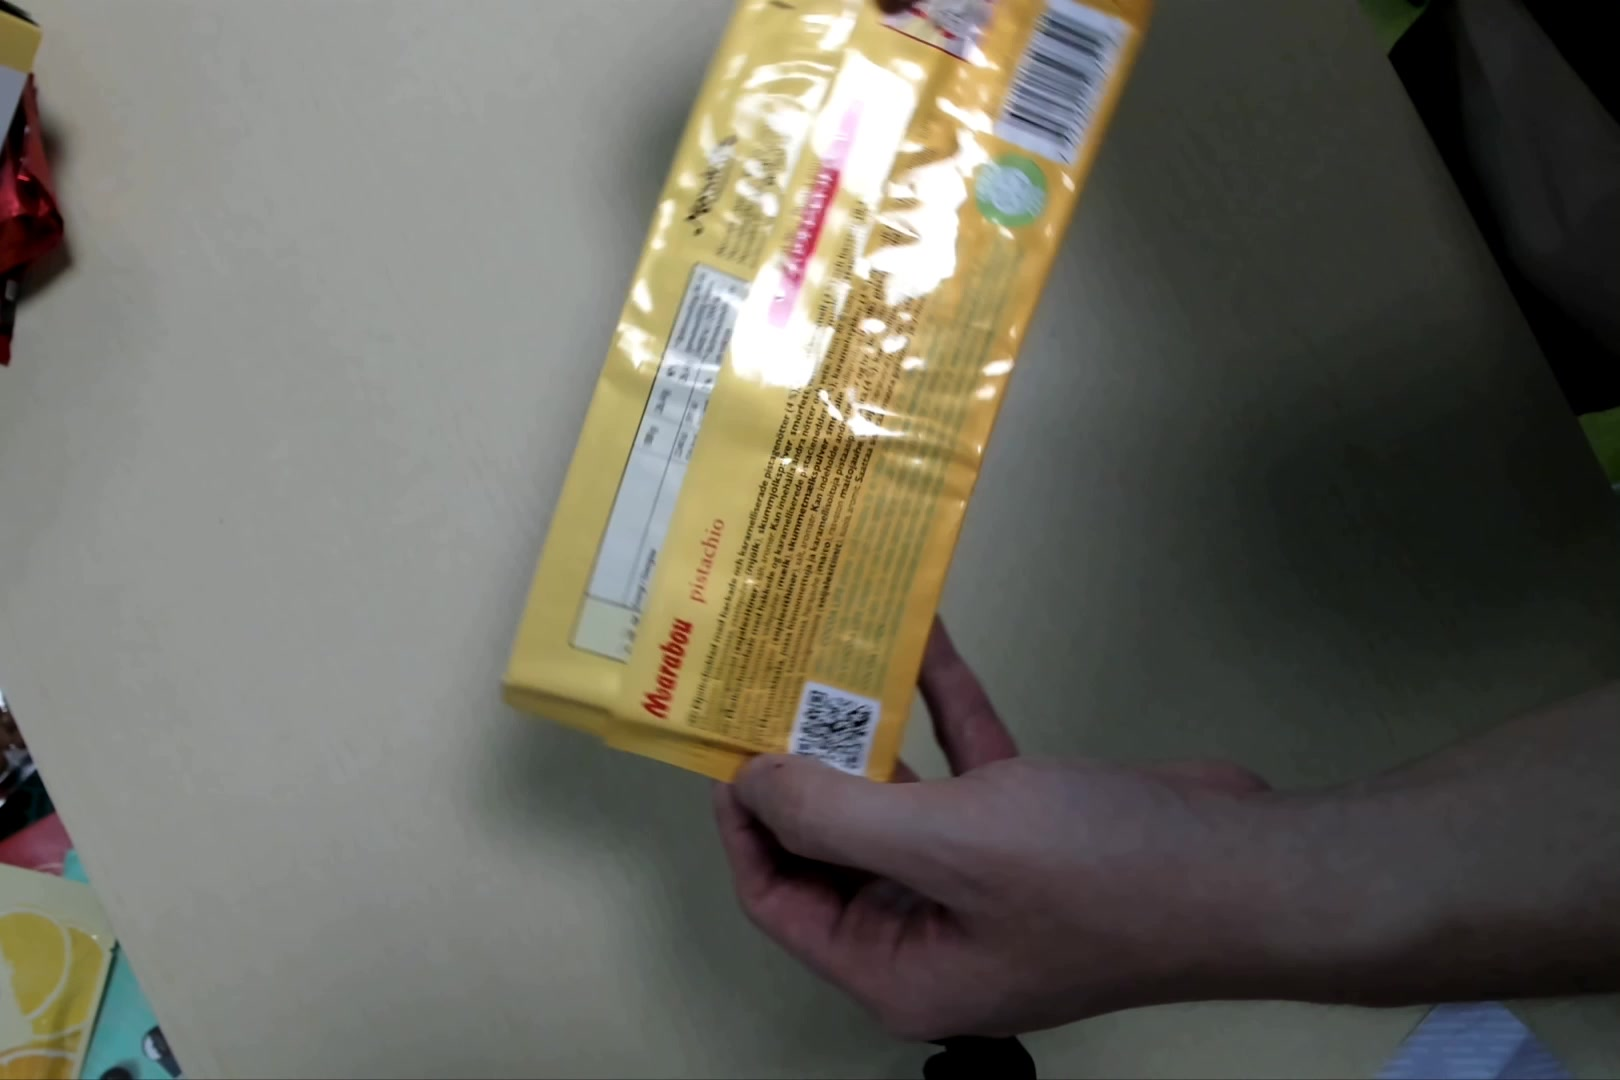SweetsChocolatesOthers_100-199g_NonHalal_NonHealthy: (481, 4, 1147, 802)
